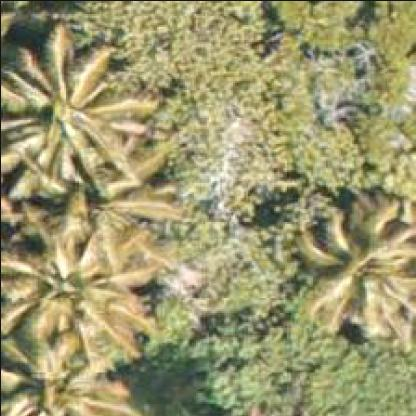coconut tree: (1, 16, 183, 415), (289, 187, 415, 352)
